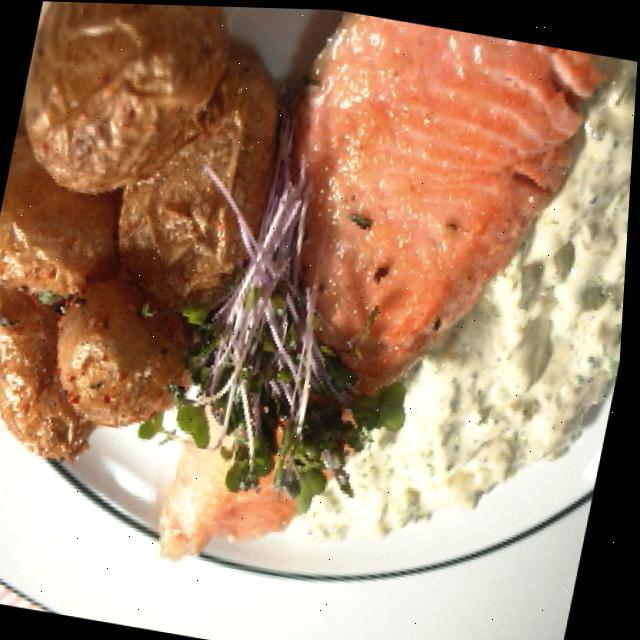熟制海鲜: (148, 4, 598, 592)
